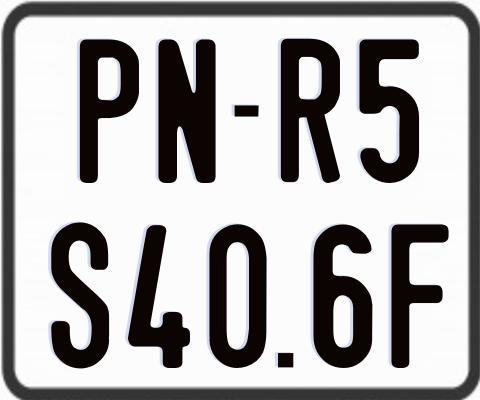0: (207, 222, 269, 367)
4: (127, 223, 189, 369)
5: (358, 36, 423, 183)
6: (313, 224, 372, 372)
F: (388, 224, 447, 369)
N: (158, 36, 218, 186)
P: (78, 37, 138, 181)
R: (278, 37, 341, 184)
S: (51, 219, 112, 369)
